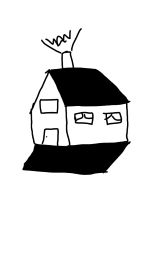door: (41, 124, 62, 148)
open_window: (72, 110, 98, 128), (39, 96, 60, 117), (101, 110, 125, 127)
shaded_roof: (27, 66, 136, 107)
shadow: (18, 139, 140, 176)
smoking_chimney: (35, 24, 89, 70)
wall: (64, 100, 132, 146)
